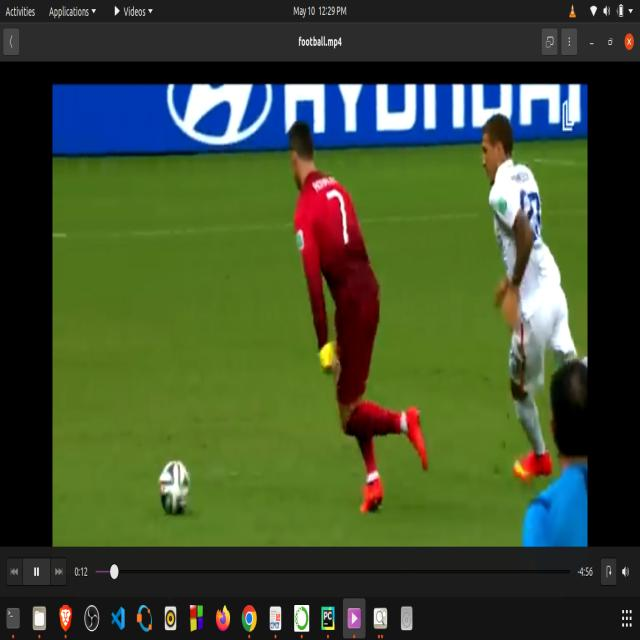Ball: (156, 453, 198, 518)
Refree: (527, 348, 589, 548)
football-players: (280, 120, 437, 516), (478, 109, 583, 479)
